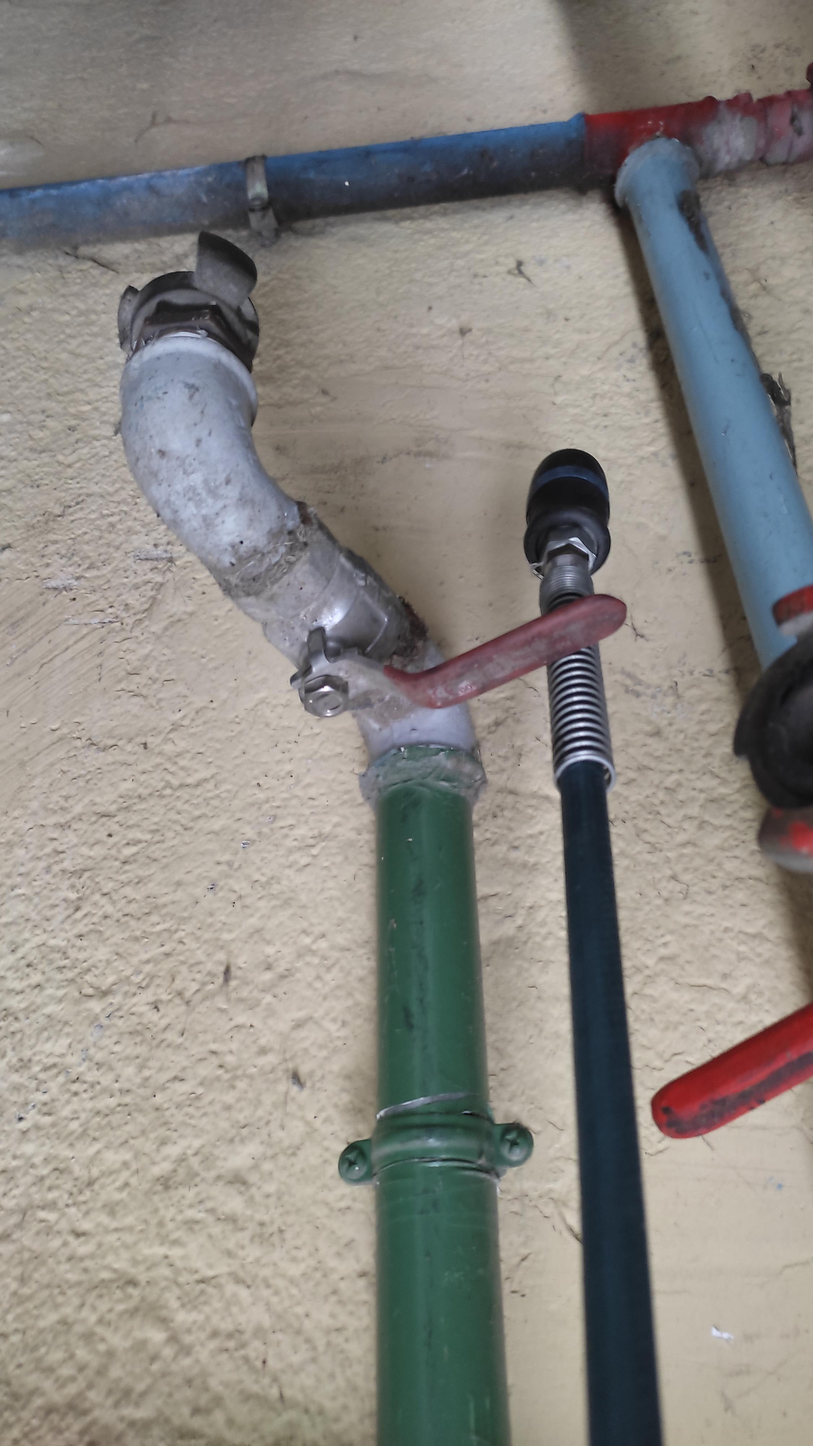closed valve: (261, 565, 628, 733)
